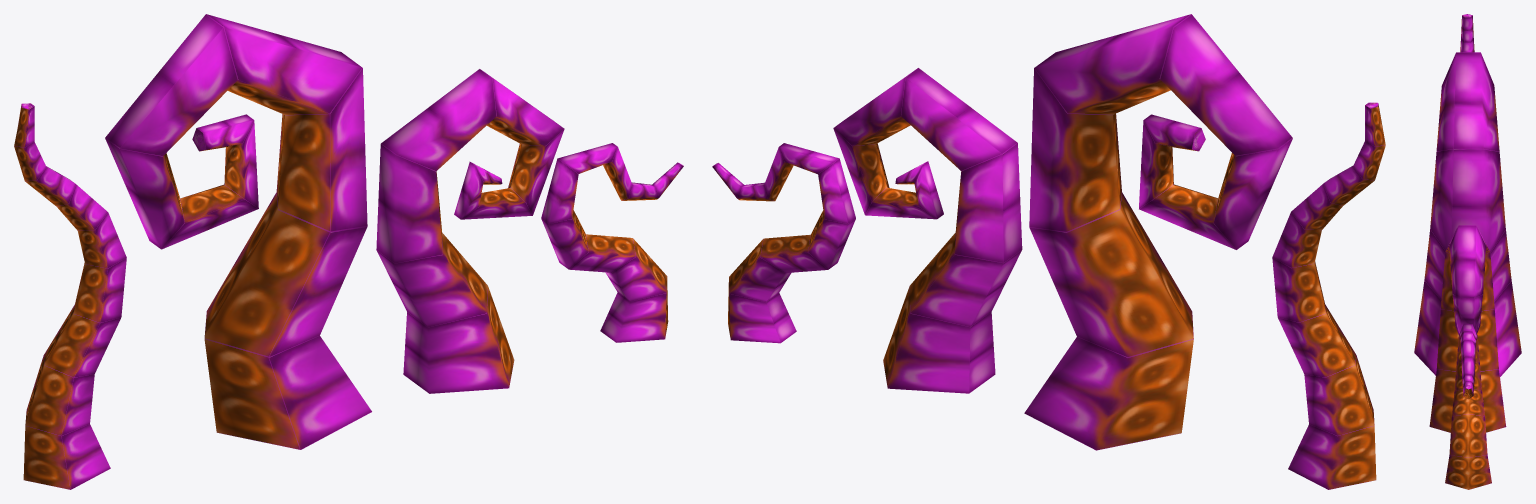
Rendered from Object_Tentacles.FBX.
3 renders of one model, left to right at view 1: azimuth 30°, elevation 25°; view 2: azimuth 150°, elevation 25°; view 3: azimuth 270°, elevation 25°, orthographic. The views are drawn at different scales.
Visible parts, largest first — view 1: tentacles2, tentacles3, tentacles4, tentacles1; view 2: tentacles2, tentacles3, tentacles4, tentacles1; view 3: tentacles2, tentacles3, tentacles1, tentacles4.
Boxes of the visible parts, x1,y1,x2,y2 form: tentacles2: (105,14,371,449); tentacles3: (376,69,564,393); tentacles4: (14,103,126,489); tentacles1: (541,143,683,342); tentacles2: (1024,14,1292,450); tentacles3: (833,68,1022,393); tentacles4: (1272,102,1385,489); tentacles1: (712,143,855,343); tentacles2: (1414,52,1521,376); tentacles3: (1429,225,1506,432); tentacles1: (1445,323,1491,489); tentacles4: (1460,14,1474,52).
Bounding box in the file's own units: 291 × 171 × 58.62.
